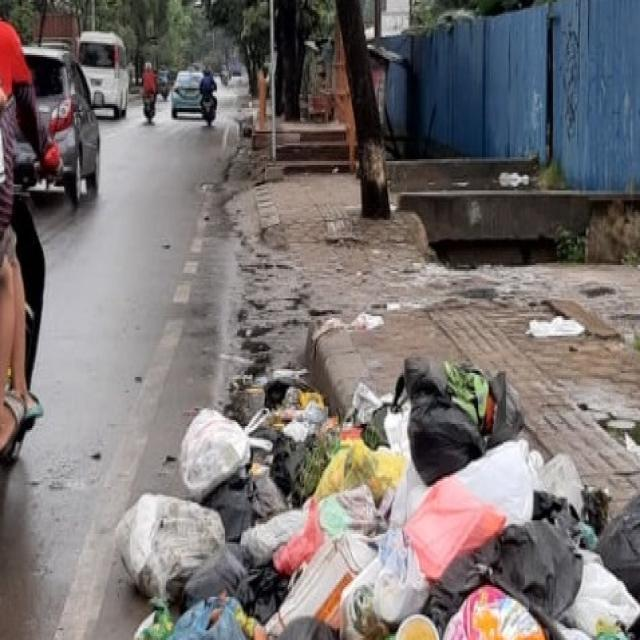Trashbag: (392, 346, 528, 486), (424, 514, 588, 624)
